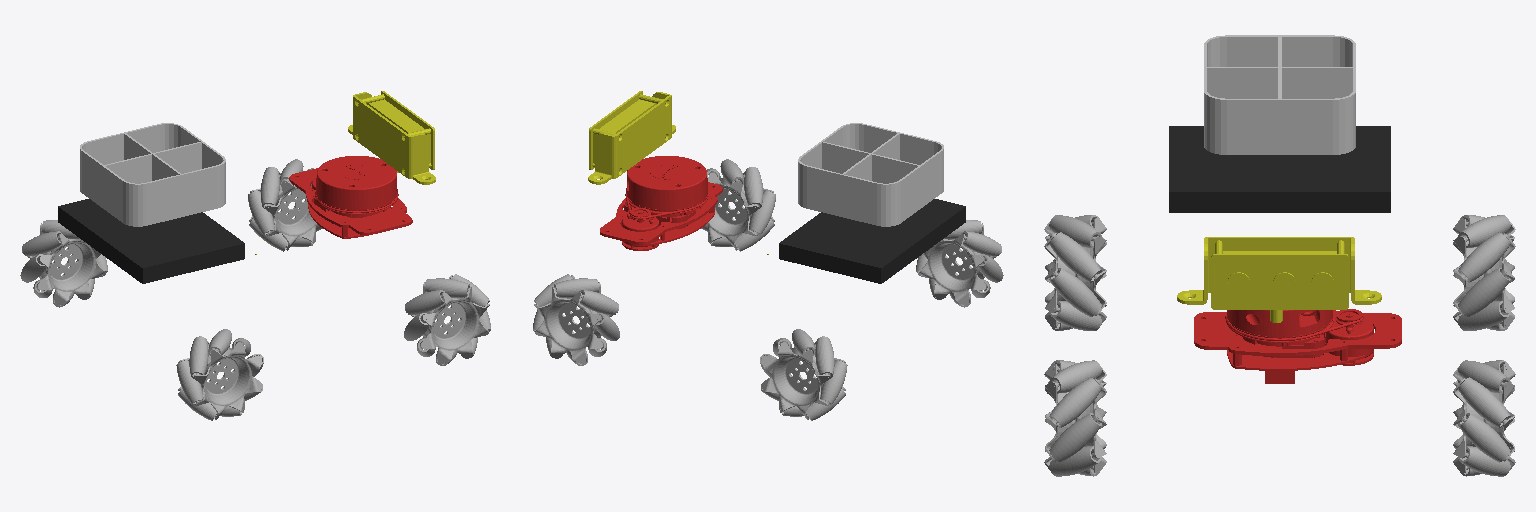
--- Facts derived from the render (not from the file) ---
The picture shows the robot from 3 angles, left to right: view 1: azimuth 30°, elevation 25°; view 2: azimuth 150°, elevation 25°; view 3: azimuth 270°, elevation 25°; orthographic projection.
Model oryxbot_base with 42 links and 41 joints (41 fixed), rooted at base_footprint, posed every joint at zero.
Visible links, largest first — view 1: save_box_Link, control_panel_Link, laser_radar_Link, depth_camera_Link, wheel_2_Link, wheel_3_Link, wheel_4_Link, wheel_1_Link, roller_2_3_Link, roller_4_3_Link, roller_1_4_Link, roller_3_4_Link (+3 smaller); view 2: save_box_Link, control_panel_Link, laser_radar_Link, depth_camera_Link, wheel_1_Link, wheel_4_Link, wheel_3_Link, wheel_2_Link, roller_1_3_Link, roller_3_3_Link, roller_2_4_Link, roller_4_4_Link (+3 smaller); view 3: save_box_Link, control_panel_Link, depth_camera_Link, laser_radar_Link, wheel_3_Link, wheel_4_Link, wheel_1_Link, wheel_2_Link, roller_4_1_Link, roller_3_1_Link, roller_1_1_Link, roller_2_1_Link (+12 smaller).
Link boxes in pixels (x1,y1,x2,y2): save_box_Link: [80, 123, 225, 226]; control_panel_Link: [58, 199, 244, 283]; laser_radar_Link: [289, 156, 412, 238]; depth_camera_Link: [348, 91, 435, 184]; wheel_2_Link: [405, 275, 489, 364]; wheel_3_Link: [178, 336, 262, 419]; wheel_4_Link: [22, 223, 105, 305]; wheel_1_Link: [249, 172, 316, 250]; roller_2_3_Link: [405, 290, 444, 314]; roller_4_3_Link: [22, 231, 60, 256]; roller_1_4_Link: [248, 191, 274, 235]; roller_3_4_Link: [176, 360, 203, 404]; save_box_Link: [798, 123, 943, 226]; control_panel_Link: [779, 199, 965, 283]; laser_radar_Link: [600, 156, 722, 250]; depth_camera_Link: [588, 91, 675, 184]; wheel_1_Link: [534, 275, 618, 364]; wheel_4_Link: [761, 336, 845, 419]; wheel_3_Link: [918, 223, 1001, 305]; wheel_2_Link: [707, 172, 774, 250]; roller_1_3_Link: [579, 290, 618, 314]; roller_3_3_Link: [963, 231, 1001, 256]; roller_2_4_Link: [749, 191, 775, 235]; roller_4_4_Link: [820, 360, 847, 404]; save_box_Link: [1204, 35, 1355, 154]; control_panel_Link: [1169, 126, 1390, 212]; depth_camera_Link: [1177, 237, 1381, 322]; laser_radar_Link: [1194, 309, 1401, 383]; wheel_3_Link: [1044, 218, 1106, 327]; wheel_4_Link: [1453, 218, 1515, 327]; wheel_1_Link: [1453, 363, 1515, 473]; wheel_2_Link: [1044, 363, 1106, 473]; roller_4_1_Link: [1458, 232, 1510, 282]; roller_3_1_Link: [1049, 232, 1101, 282]; roller_1_1_Link: [1458, 377, 1510, 427]; roller_2_1_Link: [1049, 377, 1101, 427].
Bounding box of the posed robot: 0.3075 × 0.3088 × 0.1916 m (x, y, z).
40 mesh visuals loaded from 41 distinct referenced files (40 binary STL); not drawn: 1 (reference not matched to a file when rendering).

The robot description file, URDF, robot "oryxbot_base":
<?xml version="1.0"?>
<robot xmlns:sensor="http://playerstage.sourceforge.net/gazebo/xmlschema/#sensor" xmlns:controller="http://playerstage.sourceforge.net/gazebo/xmlschema/#controller" xmlns:interface="http://playerstage.sourceforge.net/gazebo/xmlschema/#interface" xmlns:xacro="http://ros.org/wiki/xacro" name="oryxbot_base">
  <link name="base_footprint">
    <visual>
      <geometry>
        <box size="0.001 0.001 0.001"/>
      </geometry>
      <origin rpy="0 0 0" xyz="0 0 0.1"/>
    </visual>
    <inertial>
      <mass value="0.0001"/>
      <inertia ixx="1.0E-10" ixy="0.0" ixz="0.0" iyy="1.0E-10" iyz="0.0" izz="1.0E-10"/>
    </inertial>
  </link>
  <joint name="base_footprint_joint" type="fixed">
    <origin xyz="0 0 0.1"/>
    <parent link="base_footprint"/>
    <child link="base_link"/>
  </joint>
  <link name="base_link">
    <inertial>
      <origin xyz="-0.00764631169340118 -0.00117969395064395 -0.00183050219448137" rpy="0 0 0"/>
      <mass value="2.02553831087985"/>
      <inertia ixx="0.0136360660737575" ixy="-6.20950267617477E-05" ixz="0.000357631312376283" iyy="0.0207282662502369" iyz="0.000100277729999663" izz="0.0259054283159533"/>
    </inertial>
    <visual>
      <origin xyz="0 0 0" rpy="0 0 0"/>
      <geometry>
        <mesh filename="package://oryxbot_description/meshes/base/base_link.STL"/>
      </geometry>
      <material name="">
        <color rgba="0.2 0.2 0.2 1"/>
      </material>
    </visual>
    <collision>
      <origin xyz="0 0 0" rpy="0 0 0"/>
      <geometry>
        <mesh filename="package://oryxbot_description/meshes/base/base_link.STL"/>
      </geometry>
    </collision>
  </link>
  <link name="save_box_Link">
    <inertial>
      <origin xyz="-4.59354776438659E-15 9.15688820527724E-17 0.0147062883016232" rpy="0 0 0"/>
      <mass value="0.0971430373914802"/>
      <inertia ixx="0.000117289160482014" ixy="9.67216938625837E-20" ixz="-3.79126869778932E-18" iyy="0.000117289160482014" iyz="1.90433104035194E-20" izz="0.000201773217764548"/>
    </inertial>
    <visual>
      <origin xyz="0 0 0" rpy="0 0 0"/>
      <geometry>
        <mesh filename="package://oryxbot_description/meshes/base/save_box_Link.STL"/>
      </geometry>
      <material name="">
        <color rgba="0.8 0.8 0.8 1"/>
      </material>
    </visual>
    <collision>
      <origin xyz="0 0 0" rpy="0 0 0"/>
      <geometry>
        <mesh filename="package://oryxbot_description/meshes/base/save_box_Link.STL"/>
      </geometry>
    </collision>
  </link>
  <joint name="save_box_Joint" type="fixed">
    <origin xyz="-0.102321969925639 0 0.07925" rpy="-6.12303176911189E-17 0 0"/>
    <parent link="base_link"/>
    <child link="save_box_Link"/>
    <axis xyz="0 0 0"/>
  </joint>
  <link name="depth_camera_Link">
    <inertial>
      <origin xyz="-0.000338923518511336 0.00013633625480072 0.0130642403603556" rpy="0 0 0"/>
      <mass value="0.0429564094829856"/>
      <inertia ixx="4.42733827556727E-05" ixy="5.1756273672768E-08" ixz="-1.07581469445985E-07" iyy="9.87442464200886E-06" iyz="1.36662846267863E-09" izz="4.20179141036499E-05"/>
    </inertial>
    <visual>
      <origin xyz="0 0 0" rpy="0 0 0"/>
      <geometry>
        <mesh filename="package://oryxbot_description/meshes/base/depth_camera_Link.STL"/>
      </geometry>
      <material name="">
        <color rgba="0.8 0.8 0.2 1"/>
      </material>
    </visual>
    <collision>
      <origin xyz="0 0 0" rpy="0 0 0"/>
      <geometry>
        <mesh filename="package://oryxbot_description/meshes/base/depth_camera_Link.STL"/>
      </geometry>
    </collision>
  </link>
  <joint name="depth_camera_Joint" type="fixed">
    <origin xyz="0.137971242636892 0 0.0679000000000474" rpy="-6.12303176911189E-17 0 0"/>
    <parent link="base_link"/>
    <child link="depth_camera_Link"/>
    <axis xyz="0 0 0"/>
  </joint>
  <link name="laser_radar_Link">
    <inertial>
      <origin xyz="0.00129965485264849 0.0140721322674916 -0.00450819311932744" rpy="0 0 0"/>
      <mass value="0.0623789276094434"/>
      <inertia ixx="6.94639653669307E-05" ixy="8.6185609328867E-07" ixz="-1.9717605542125E-07" iyy="2.93424892981532E-05" iyz="6.39495406735705E-06" izz="7.78608897582073E-05"/>
    </inertial>
    <visual>
      <origin xyz="0 0 -0.02" rpy="0 0 0"/>
      <geometry>
        <mesh filename="package://oryxbot_description/meshes/base/laser_radar_Link.STL"/>
      </geometry>
      <material name="">
        <color rgba="0.8 0.2 0.2 1"/>
      </material>
    </visual>
    <collision>
      <origin xyz="0 0 0" rpy="0 0 0"/>
      <geometry>
        <mesh filename="package://oryxbot_description/meshes/base/laser_radar_Link.STL"/>
      </geometry>
    </collision>
  </link>
  <joint name="laser_radar_Joint" type="fixed">
    <origin xyz="0.10012092451104 0 0.05" rpy="-6.12303176911189E-17 0 0"/>
    <parent link="base_link"/>
    <child link="laser_radar_Link"/>
    <axis xyz="0 0 0"/>
  </joint>
  <link name="control_panel_Link">
    <inertial>
      <origin xyz="-1.38777878078145E-17 2.03505737914499E-17 0.0075" rpy="0 0 0"/>
      <mass value="0.22338"/>
      <inertia ixx="0.000400985715" ixy="-6.3306622132724E-20" ixz="-2.25875452601147E-21" iyy="0.000197858835" iyz="-8.99944309783044E-21" izz="0.0005904678"/>
    </inertial>
    <visual>
      <origin xyz="0 0 0" rpy="0 0 0"/>
      <geometry>
        <mesh filename="package://oryxbot_description/meshes/base/control_panel_Link.STL"/>
      </geometry>
      <material name="">
        <color rgba="0.2 0.2 0.2 1"/>
      </material>
    </visual>
    <collision>
      <origin xyz="0 0 0" rpy="0 0 0"/>
      <geometry>
        <mesh filename="package://oryxbot_description/meshes/base/control_panel_Link.STL"/>
      </geometry>
    </collision>
  </link>
  <joint name="control_panel_Joint" type="fixed">
    <origin xyz="-0.103733742636892 0 0.03725" rpy="-6.12303176911189E-17 0 0"/>
    <parent link="base_link"/>
    <child link="control_panel_Link"/>
    <axis xyz="0 0 0"/>
  </joint>
  <link name="wheel_1_Link">
    <inertial>
      <origin xyz="-3.49119389092545E-08 4.8702717014848E-07 -8.62702332904419E-08" rpy="0 0 0"/>
      <mass value="0.0115715789339179"/>
      <inertia ixx="4.48576917597745E-06" ixy="-1.24304480702996E-11" ixz="2.9583635995248E-11" iyy="6.65994842603994E-06" iyz="-5.89599770954395E-11" izz="4.48579119615739E-06"/>
    </inertial>
    <visual>
      <origin xyz="0 0 0" rpy="0 0 0"/>
      <geometry>
        <mesh filename="package://oryxbot_description/meshes/base/wheel_1_Link.STL"/>
      </geometry>
      <material name="">
        <color rgba="0.7 0.7 0.7 1"/>
      </material>
    </visual>
    <collision>
      <origin xyz="0 0 0" rpy="0 0 0"/>
      <geometry>
        <mesh filename="package://oryxbot_description/meshes/base/wheel_1_Link.STL"/>
      </geometry>
    </collision>
  </link>
  <joint name="wheel_1_Joint" type="fixed">
    <origin xyz="0.112733742636897 0.134000000000001 -0.0342499999999998" rpy="-6.12303176911189E-17 0 0"/>
    <parent link="base_link"/>
    <child link="wheel_1_Link"/>
    <axis xyz="0 0 0"/>
  </joint>
  <link name="roller_1_1_Link">
    <inertial>
      <origin xyz="-6.93889390390723E-17 0.000999807094442251 4.16333634234434E-17" rpy="0 0 0"/>
      <mass value="0.0041465555976513"/>
      <inertia ixx="4.31863836293642E-07" ixy="-2.50139417236036E-21" ixz="-4.80667813501109E-12" iyy="1.54352178276911E-07" iyz="2.47492439275866E-21" izz="4.31782290635005E-07"/>
    </inertial>
    <visual>
      <origin xyz="0 0 0" rpy="0 0 0"/>
      <geometry>
        <mesh filename="package://oryxbot_description/meshes/base/roller_1_1_Link.STL"/>
      </geometry>
      <material name="">
        <color rgba="0.7 0.7 0.7 1"/>
      </material>
    </visual>
  </link>
  <joint name="roller_1_1_Joint" type="fixed">
    <origin xyz="0.0207132034355986 -0.000707106781189015 0.0217132034356015" rpy="-0.529902789748729 -0.146975190663391 -0.529902789748729"/>
    <parent link="wheel_1_Link"/>
    <child link="roller_1_1_Link"/>
    <axis xyz="0 0 0"/>
  </joint>
  <link name="roller_1_2_Link">
    <inertial>
      <origin xyz="-1.38777878078145E-17 0.000999807094442251 -6.93889390390723E-18" rpy="0 0 0"/>
      <mass value="0.00414655559765128"/>
      <inertia ixx="4.31863836293638E-07" ixy="-1.2573145310806E-22" ixz="-4.80667813518606E-12" iyy="1.54352178276911E-07" iyz="3.46090947854882E-22" izz="4.31782290635005E-07"/>
    </inertial>
    <visual>
      <origin xyz="0 0 0" rpy="0 0 0"/>
      <geometry>
        <mesh filename="package://oryxbot_description/meshes/base/roller_1_2_Link.STL"/>
      </geometry>
      <material name="">
        <color rgba="0.7 0.7 0.7 1"/>
      </material>
    </visual>
  </link>
  <joint name="roller_1_2_Joint" type="fixed">
    <origin xyz="-0.000707106781188779 -0.000707106781188793 0.03" rpy="2.60208521396521E-16 0 -0.785398163397448"/>
    <parent link="wheel_1_Link"/>
    <child link="roller_1_2_Link"/>
    <axis xyz="0 0 0"/>
  </joint>
  <link name="roller_1_3_Link">
    <inertial>
      <origin xyz="-1.38777878078145E-17 0.000999807094442279 1.38777878078145E-17" rpy="0 0 0"/>
      <mass value="0.00414655559765127"/>
      <inertia ixx="4.31863836293635E-07" ixy="2.87858853168454E-22" ixz="-4.80667813510373E-12" iyy="1.54352178276911E-07" iyz="3.20946077670575E-22" izz="4.31782290635002E-07"/>
    </inertial>
    <visual>
      <origin xyz="0 0 0" rpy="0 0 0"/>
      <geometry>
        <mesh filename="package://oryxbot_description/meshes/base/roller_1_3_Link.STL"/>
      </geometry>
      <material name="">
        <color rgba="0.7 0.7 0.7 1"/>
      </material>
    </visual>
  </link>
  <joint name="roller_1_3_Joint" type="fixed">
    <origin xyz="-0.0217132034356014 -0.000707106781189043 0.0207132034355986" rpy="0.52990278974873 0.146975190663391 -0.529902789748729"/>
    <parent link="wheel_1_Link"/>
    <child link="roller_1_3_Link"/>
    <axis xyz="0 0 0"/>
  </joint>
  <link name="roller_1_4_Link">
    <inertial>
      <origin xyz="1.38777878078145E-17 0.000999807094442279 0" rpy="0 0 0"/>
      <mass value="0.00414655559765129"/>
      <inertia ixx="4.31863836293638E-07" ixy="1.11217018297169E-22" ixz="-4.80667813522289E-12" iyy="1.54352178276911E-07" iyz="3.30872245021211E-22" izz="4.31782290635005E-07"/>
    </inertial>
    <visual>
      <origin xyz="0 0 0" rpy="0 0 0"/>
      <geometry>
        <mesh filename="package://oryxbot_description/meshes/base/roller_1_4_Link.STL"/>
      </geometry>
      <material name=""><color rgba="0.7 0.7 0.7 1"/>&gt;
      </material>
    </visual>
  </link>
  <joint name="roller_1_4_Joint" type="fixed">
    <origin xyz="-0.03 -0.000707106781188765 -0.000707106781188793" rpy="0.785398163397448 0 0"/>
    <parent link="wheel_1_Link"/>
    <child link="roller_1_4_Link"/>
    <axis xyz="0 0 0"/>
  </joint>
  <link name="roller_1_5_Link">
    <inertial>
      <origin xyz="0 0.000999807094442251 -2.77555756156289E-17" rpy="0 0 0"/>
      <mass value="0.0041465555976513"/>
      <inertia ixx="4.3186383629364E-07" ixy="-2.9778502051909E-23" ixz="-4.80667813530226E-12" iyy="1.54352178276911E-07" iyz="7.51079996198149E-22" izz="4.31782290635006E-07"/>
    </inertial>
    <visual>
      <origin xyz="0 0 0" rpy="0 0 0"/>
      <geometry>
        <mesh filename="package://oryxbot_description/meshes/base/roller_1_5_Link.STL"/>
      </geometry>
      <material name="">
        <color rgba="0.7 0.7 0.7 1"/>
      </material>
    </visual>
  </link>
  <joint name="roller_1_5_Joint" type="fixed">
    <origin xyz="-0.0207132034355986 -0.000707106781189043 -0.0217132034356015" rpy="0.52990278974873 -0.146975190663391 0.529902789748729"/>
    <parent link="wheel_1_Link"/>
    <child link="roller_1_5_Link"/>
    <axis xyz="0 0 0"/>
  </joint>
  <link name="roller_1_6_Link">
    <inertial>
      <origin xyz="0 0.000999807094442196 1.38777878078145E-17" rpy="0 0 0"/>
      <mass value="0.00414655559765129"/>
      <inertia ixx="4.3186383629364E-07" ixy="-5.4924792673521E-22" ixz="-4.80667813516948E-12" iyy="1.54352178276911E-07" iyz="1.05435639738534E-22" izz="4.31782290635007E-07"/>
    </inertial>
    <visual>
      <origin xyz="0 0 0" rpy="0 0 0"/>
      <geometry>
        <mesh filename="package://oryxbot_description/meshes/base/roller_1_6_Link.STL"/>
      </geometry>
      <material name="">
        <color rgba="0.7 0.7 0.7 1"/>
      </material>
    </visual>
  </link>
  <joint name="roller_1_6_Joint" type="fixed">
    <origin xyz="0.000707106781188793 -0.000707106781188793 -0.03" rpy="0 0 0.785398163397448"/>
    <parent link="wheel_1_Link"/>
    <child link="roller_1_6_Link"/>
    <axis xyz="0 0 0"/>
  </joint>
  <link name="roller_1_7_Link">
    <inertial>
      <origin xyz="0 0.000999807094442209 -1.38777878078145E-17" rpy="0 0 0"/>
      <mass value="0.00414655559765128"/>
      <inertia ixx="4.31863836293635E-07" ixy="3.4410713482206E-22" ixz="-4.80667813504418E-12" iyy="1.54352178276911E-07" iyz="1.19114008207636E-22" izz="4.31782290635002E-07"/>
    </inertial>
    <visual>
      <origin xyz="0 0 0" rpy="0 0 0"/>
      <geometry>
        <mesh filename="package://oryxbot_description/meshes/base/roller_1_7_Link.STL"/>
      </geometry>
      <material name="">
        <color rgba="0.7 0.7 0.7 1"/>
      </material>
    </visual>
  </link>
  <joint name="roller_1_7_Joint" type="fixed">
    <origin xyz="0.0217132034356015 -0.000707106781189043 -0.0207132034355986" rpy="-0.529902789748728 0.14697519066339 0.529902789748728"/>
    <parent link="wheel_1_Link"/>
    <child link="roller_1_7_Link"/>
    <axis xyz="0 0 0"/>
  </joint>
  <link name="roller_1_8_Link">
    <inertial>
      <origin xyz="2.77555756156289E-17 0.000999807094442348 1.38777878078145E-17" rpy="0 0 0"/>
      <mass value="0.00414655559765128"/>
      <inertia ixx="4.31863836293639E-07" ixy="-8.22511969632861E-22" ixz="-4.8066781351909E-12" iyy="1.54352178276911E-07" iyz="-3.04402465419514E-22" izz="4.31782290635006E-07"/>
    </inertial>
    <visual>
      <origin xyz="0 0 0" rpy="0 0 0"/>
      <geometry>
        <mesh filename="package://oryxbot_description/meshes/base/roller_1_8_Link.STL"/>
      </geometry>
      <material name="">
        <color rgba="0.7 0.7 0.7 1"/>
      </material>
    </visual>
  </link>
  <joint name="roller_1_8_Joint" type="fixed">
    <origin xyz="0.03 -0.000707106781188821 0.000707106781188793" rpy="-0.785398163397448 0 0"/>
    <parent link="wheel_1_Link"/>
    <child link="roller_1_8_Link"/>
    <axis xyz="0 0 0"/>
  </joint>
  <link name="wheel_2_Link">
    <inertial>
      <origin xyz="9.94518354099916E-07 -3.47615774470844E-07 4.35441263609004E-07" rpy="0 0 0"/>
      <mass value="0.0115720932718038"/>
      <inertia ixx="4.48594023888562E-06" ixy="-1.27462413936796E-11" ixz="5.95427391893261E-11" iyy="6.66008980600592E-06" iyz="-5.04101581512295E-11" izz="4.48582634155502E-06"/>
    </inertial>
    <visual>
      <origin xyz="0 0 0" rpy="0 0 0"/>
      <geometry>
        <mesh filename="package://oryxbot_description/meshes/base/wheel_2_Link.STL"/>
      </geometry>
      <material name="">
        <color rgba="0.7 0.7 0.7 1"/>
      </material>
    </visual>
    <collision>
      <origin xyz="0 0 0" rpy="0 0 0"/>
      <geometry>
        <mesh filename="package://oryxbot_description/meshes/base/wheel_2_Link.STL"/>
      </geometry>
    </collision>
  </link>
  <joint name="wheel_2_Joint" type="fixed">
    <origin xyz="0.112733742636895 -0.133999999999999 -0.0342499999999961" rpy="-6.12303176911189E-17 0 0"/>
    <parent link="base_link"/>
    <child link="wheel_2_Link"/>
    <axis xyz="0 0 0"/>
  </joint>
  <link name="roller_2_1_Link">
    <inertial>
      <origin xyz="-1.38777878078145E-17 0.000999807094442307 0" rpy="0 0 0"/>
      <mass value="0.00414655559765128"/>
      <inertia ixx="4.31863836293637E-07" ixy="-4.46677530778635E-22" ixz="-4.80667813523608E-12" iyy="1.54352178276911E-07" iyz="-2.9778502051909E-23" izz="4.31782290635004E-07"/>
    </inertial>
    <visual>
      <origin xyz="0 0 0" rpy="0 0 0"/>
      <geometry>
        <mesh filename="package://oryxbot_description/meshes/base/roller_2_1_Link.STL"/>
      </geometry>
      <material name="">
        <color rgba="0.7 0.7 0.7 1"/>
      </material>
    </visual>
  </link>
  <joint name="roller_2_1_Joint" type="fixed">
    <origin xyz="0.0217132034356014 -0.000707106781189015 0.0207132034355986" rpy="0.52990278974873 -0.146975190663391 0.529902789748729"/>
    <parent link="wheel_2_Link"/>
    <child link="roller_2_1_Link"/>
    <axis xyz="0 0 0"/>
  </joint>
  <link name="roller_2_2_Link">
    <inertial>
      <origin xyz="1.38777878078145E-17 0.000999807094442251 -3.03576608295941E-17" rpy="0 0 0"/>
      <mass value="0.00414655559765128"/>
      <inertia ixx="4.31863836293636E-07" ixy="-4.56603698129271E-22" ixz="-4.80667813508966E-12" iyy="1.54352178276911E-07" iyz="-2.56064630237828E-22" izz="4.31782290635003E-07"/>
    </inertial>
    <visual>
      <origin xyz="0 0 0" rpy="0 0 0"/>
      <geometry>
        <mesh filename="package://oryxbot_description/meshes/base/roller_2_2_Link.STL"/>
      </geometry>
      <material name="">
        <color rgba="0.7 0.7 0.7 1"/>
      </material>
    </visual>
  </link>
  <joint name="roller_2_2_Joint" type="fixed">
    <origin xyz="0.000707106781188779 -0.000707106781188738 0.03" rpy="2.60208521396521E-16 0 0.785398163397448"/>
    <parent link="wheel_2_Link"/>
    <child link="roller_2_2_Link"/>
    <axis xyz="0 0 0"/>
  </joint>
  <link name="roller_2_3_Link">
    <inertial>
      <origin xyz="-1.38777878078145E-17 0.000999807094442251 0" rpy="0 0 0"/>
      <mass value="0.00414655559765129"/>
      <inertia ixx="4.31863836293639E-07" ixy="3.30872245021211E-22" ixz="-4.80667813500447E-12" iyy="1.54352178276911E-07" iyz="3.37489689921635E-22" izz="4.31782290635005E-07"/>
    </inertial>
    <visual>
      <origin xyz="0 0 0" rpy="0 0 0"/>
      <geometry>
        <mesh filename="package://oryxbot_description/meshes/base/roller_2_3_Link.STL"/>
      </geometry>
      <material name="">
        <color rgba="0.7 0.7 0.7 1"/>
      </material>
    </visual>
  </link>
  <joint name="roller_2_3_Joint" type="fixed">
    <origin xyz="-0.0207132034355986 -0.00070710678118896 0.0217132034356015" rpy="-0.529902789748729 0.14697519066339 0.529902789748728"/>
    <parent link="wheel_2_Link"/>
    <child link="roller_2_3_Link"/>
    <axis xyz="0 0 0"/>
  </joint>
  <link name="roller_2_4_Link">
    <inertial>
      <origin xyz="0 0.000999807094442223 -1.38777878078145E-17" rpy="0 0 0"/>
      <mass value="0.0041465555976513"/>
      <inertia ixx="4.31863836293639E-07" ixy="-2.11380593321028E-22" ixz="-4.80667813513264E-12" iyy="1.54352178276911E-07" iyz="2.77932685817817E-22" izz="4.31782290635005E-07"/>
    </inertial>
    <visual>
      <origin xyz="0 0 0" rpy="0 0 0"/>
      <geometry>
        <mesh filename="package://oryxbot_description/meshes/base/roller_2_4_Link.STL"/>
      </geometry>
      <material name="">
        <color rgba="0.7 0.7 0.7 1"/>
      </material>
    </visual>
  </link>
  <joint name="roller_2_4_Joint" type="fixed">
    <origin xyz="-0.03 -0.000707106781188821 0.000707106781188793" rpy="-0.785398163397448 0 0"/>
    <parent link="wheel_2_Link"/>
    <child link="roller_2_4_Link"/>
    <axis xyz="0 0 0"/>
  </joint>
  <link name="roller_2_5_Link">
    <inertial>
      <origin xyz="-5.55111512312578E-17 0.000999807094442334 1.38777878078145E-17" rpy="0 0 0"/>
      <mass value="0.00414655559765128"/>
      <inertia ixx="4.31863836293638E-07" ixy="-9.92616735063633E-24" ixz="-4.80667813514344E-12" iyy="1.54352178276911E-07" iyz="9.03281228907906E-22" izz="4.31782290635004E-07"/>
    </inertial>
    <visual>
      <origin xyz="0 0 0" rpy="0 0 0"/>
      <geometry>
        <mesh filename="package://oryxbot_description/meshes/base/roller_2_5_Link.STL"/>
      </geometry>
      <material name="">
        <color rgba="0.7 0.7 0.7 1"/>
      </material>
    </visual>
  </link>
  <joint name="rolle_2r_5_Joint" type="fixed">
    <origin xyz="-0.0217132034356014 -0.000707106781188988 -0.0207132034355986" rpy="-0.52990278974873 -0.146975190663391 -0.529902789748729"/>
    <parent link="wheel_2_Link"/>
    <child link="roller_2_5_Link"/>
    <axis xyz="0 0 0"/>
  </joint>
  <link name="roller_2_6_Link">
    <inertial>
      <origin xyz="2.77555756156289E-17 0.000999807094442348 -1.38777878078145E-17" rpy="0 0 0"/>
      <mass value="0.00414655559765126"/>
      <inertia ixx="4.31863836293635E-07" ixy="4.36751363427999E-22" ixz="-4.80667813509319E-12" iyy="1.5435217827691E-07" iyz="2.36116847928058E-22" izz="4.31782290635003E-07"/>
    </inertial>
    <visual>
      <origin xyz="0 0 0" rpy="0 0 0"/>
      <geometry>
        <mesh filename="package://oryxbot_description/meshes/base/roller_2_6_Link.STL"/>
      </geometry>
      <material name="">
        <color rgba="0.7 0.7 0.7 1"/>
      </material>
    </visual>
  </link>
  <joint name="roller_2_6_Joint" type="fixed">
    <origin xyz="-0.000707106781188765 -0.000707106781188738 -0.03" rpy="0 0 -0.785398163397448"/>
    <parent link="wheel_2_Link"/>
    <child link="roller_2_6_Link"/>
    <axis xyz="0 0 0"/>
  </joint>
  <link name="roller_2_7_Link">
    <inertial>
      <origin xyz="-2.77555756156289E-17 0.000999807094442307 -2.77555756156289E-17" rpy="0 0 0"/>
      <mass value="0.00414655559765127"/>
      <inertia ixx="4.31863836293635E-07" ixy="-3.01093742969302E-22" ixz="-4.80667813497139E-12" iyy="1.54352178276911E-07" iyz="-4.30133918527574E-22" izz="4.31782290635001E-07"/>
    </inertial>
    <visual>
      <origin xyz="0 0 0" rpy="0 0 0"/>
      <geometry>
        <mesh filename="package://oryxbot_description/meshes/base/roller_2_7_Link.STL"/>
      </geometry>
      <material name="">
        <color rgba="0.7 0.7 0.7 1"/>
      </material>
    </visual>
  </link>
  <joint name="roller_2_7_Joint" type="fixed">
    <origin xyz="0.0207132034355986 -0.000707106781189015 -0.0217132034356015" rpy="0.52990278974873 0.146975190663391 -0.529902789748729"/>
    <parent link="wheel_2_Link"/>
    <child link="roller_2_7_Link"/>
    <axis xyz="0 0 0"/>
  </joint>
  <link name="roller_2_8_Link">
    <inertial>
      <origin xyz="2.77555756156289E-17 0.000999807094442279 -2.77555756156289E-17" rpy="0 0 0"/>
      <mass value="0.00414655559765126"/>
      <inertia ixx="4.31863836293635E-07" ixy="5.53160878773498E-23" ixz="-4.80667813492758E-12" iyy="1.5435217827691E-07" iyz="-5.9557004103818E-22" izz="4.31782290635001E-07"/>
    </inertial>
    <visual>
      <origin xyz="0 0 0" rpy="0 0 0"/>
      <geometry>
        <mesh filename="package://oryxbot_description/meshes/base/roller_2_8_Link.STL"/>
      </geometry>
      <material name="">
        <color rgba="0.7 0.7 0.7 1"/>
      </material>
    </visual>
  </link>
  <joint name="roller_2_8_Joint" type="fixed">
    <origin xyz="0.03 -0.000707106781188765 -0.000707106781188793" rpy="0.785398163397448 0 0"/>
    <parent link="wheel_2_Link"/>
    <child link="roller_2_8_Link"/>
    <axis xyz="0 0 0"/>
  </joint>
  <link name="wheel_3_Link">
    <inertial>
      <origin xyz="-3.50725403996943E-08 4.87027175366528E-07 -8.61096328685917E-08" rpy="0 0 0"/>
      <mass value="0.0115715788043825"/>
      <inertia ixx="4.48576910692246E-06" ixy="-1.24408844764669E-11" ixz="2.95581559339796E-11" iyy="6.65994836338677E-06" iyz="-5.89704116223101E-11" izz="4.48579112710188E-06"/>
    </inertial>
    <visual>
      <origin xyz="0 0 0" rpy="0 0 0"/>
      <geometry>
        <mesh filename="package://oryxbot_description/meshes/base/wheel_3_Link.STL"/>
      </geometry>
      <material name="">
        <color rgba="0.7 0.7 0.7 1"/>
      </material>
    </visual>
    <collision>
      <origin xyz="0 0 0" rpy="0 0 0"/>
      <geometry>
        <mesh filename="package://oryxbot_description/meshes/base/wheel_3_Link.STL"/>
      </geometry>
    </collision>
  </link>
  <joint name="wheel_3_joint" type="fixed">
    <origin xyz="-0.112733742636892 -0.134 -0.0342499999999999" rpy="-6.12303176911189E-17 0 0"/>
    <parent link="base_link"/>
    <child link="wheel_3_Link"/>
    <axis xyz="0 0 0"/>
  </joint>
  <link name="roller_3_1_Link">
    <inertial>
      <origin xyz="-5.55111512312578E-17 0.000999807094442307 5.55111512312578E-17" rpy="0 0 0"/>
      <mass value="0.00414655559765128"/>
      <inertia ixx="4.31863836293639E-07" ixy="-1.43267682094184E-21" ixz="-4.80667813487874E-12" iyy="1.54352178276911E-07" iyz="2.22346148654254E-21" izz="4.31782290635002E-07"/>
    </inertial>
    <visual>
      <origin xyz="0 0 0" rpy="0 0 0"/>
      <geometry>
        <mesh filename="package://oryxbot_description/meshes/base/roller_3_1_Link.STL"/>
      </geometry>
      <material name="">
        <color rgba="0.7 0.7 0.7 1"/>
      </material>
    </visual>
  </link>
  <joint name="roller_3_1_Joint" type="fixed">
    <origin xyz="0.0207132034355986 -0.000707106781189043 0.0217132034356015" rpy="-0.529902789748729 -0.146975190663392 -0.52990278974873"/>
    <parent link="wheel_3_Link"/>
    <child link="roller_3_1_Link"/>
    <axis xyz="0 0 0"/>
  </joint>
  <link name="roller_3_2_Link">
    <inertial>
      <origin xyz="0 0.000999807094442307 1.04083408558608E-17" rpy="0 0 0"/>
      <mass value="0.00414655559765128"/>
      <inertia ixx="4.31863836293635E-07" ixy="3.97046694025453E-23" ixz="-4.80667813502386E-12" iyy="1.54352178276911E-07" iyz="7.50061846387807E-22" izz="4.31782290635002E-07"/>
    </inertial>
    <visual>
      <origin xyz="0 0 0" rpy="0 0 0"/>
      <geometry>
        <mesh filename="package://oryxbot_description/meshes/base/roller_3_2_Link.STL"/>
      </geometry>
      <material name="">
        <color rgba="0.7 0.7 0.7 1"/>
      </material>
    </visual>
  </link>
  <joint name="roller_3_2_Joint" type="fixed">
    <origin xyz="-0.000707106781188752 -0.000707106781188793 0.03" rpy="2.60208521396521E-16 0 -0.785398163397448"/>
    <parent link="wheel_3_Link"/>
    <child link="roller_3_2_Link"/>
    <axis xyz="0 0 0"/>
  </joint>
  <link name="roller_3_3_Link">
    <inertial>
      <origin xyz="-1.38777878078145E-17 0.000999807094442307 2.77555756156289E-17" rpy="0 0 0"/>
      <mass value="0.00414655559765129"/>
      <inertia ixx="4.31863836293638E-07" ixy="-1.15805285757424E-22" ixz="-4.80667813526917E-12" iyy="1.54352178276911E-07" iyz="3.01093742969302E-22" izz="4.31782290635004E-07"/>
    </inertial>
    <visual>
      <origin xyz="0 0 0" rpy="0 0 0"/>
      <geometry>
        <mesh filename="package://oryxbot_description/meshes/base/roller_3_3_Link.STL"/>
      </geometry>
      <material name="">
        <color rgba="0.7 0.7 0.7 1"/>
      </material>
    </visual>
  </link>
  <joint name="roller_3_3_Joint" type="fixed">
    <origin xyz="-0.0217132034356014 -0.000707106781189015 0.0207132034355986" rpy="0.52990278974873 0.146975190663391 -0.529902789748729"/>
    <parent link="wheel_3_Link"/>
    <child link="roller_3_3_Link"/>
    <axis xyz="0 0 0"/>
  </joint>
  <link name="roller_3_4_Link">
    <inertial>
      <origin xyz="-5.55111512312578E-17 0.000999807094442307 -1.38777878078145E-17" rpy="0 0 0"/>
      <mass value="0.00414655559765126"/>
      <inertia ixx="4.31863836293633E-07" ixy="-9.24894957481905E-22" ixz="-4.8066781350104E-12" iyy="1.5435217827691E-07" iyz="-5.29395592033938E-23" izz="4.31782290635001E-07"/>
    </inertial>
    <visual>
      <origin xyz="0 0 0" rpy="0 0 0"/>
      <geometry>
        <mesh filename="package://oryxbot_description/meshes/base/roller_3_4_Link.STL"/>
      </geometry>
      <material name="">
        <color rgba="0.7 0.7 0.7 1"/>
      </material>
    </visual>
  </link>
  <joint name="roller_3_4_Joint" type="fixed">
    <origin xyz="-0.03 -0.000707106781188765 -0.000707106781188786" rpy="0.785398163397448 0 0"/>
    <parent link="wheel_3_Link"/>
    <child link="roller_3_4_Link"/>
    <axis xyz="0 0 0"/>
  </joint>
  <link name="roller_3_5_Link">
    <inertial>
      <origin xyz="0 0.000999807094442307 -1.38777878078145E-17" rpy="0 0 0"/>
      <mass value="0.00414655559765126"/>
      <inertia ixx="4.31863836293633E-07" ixy="0" ixz="-4.8066781350905E-12" iyy="1.5435217827691E-07" iyz="-4.66529865479908E-22" izz="4.31782290635E-07"/>
    </inertial>
    <visual>
      <origin xyz="0 0 0" rpy="0 0 0"/>
      <geometry>
        <mesh filename="package://oryxbot_description/meshes/base/roller_3_5_Link.STL"/>
      </geometry>
      <material name="">
        <color rgba="0.7 0.7 0.7 1"/>
      </material>
    </visual>
  </link>
  <joint name="roller_3_5_Joint" type="fixed">
    <origin xyz="-0.0207132034355986 -0.000707106781189071 -0.0217132034356015" rpy="0.52990278974873 -0.146975190663391 0.529902789748729"/>
    <parent link="wheel_3_Link"/>
    <child link="roller_3_5_Link"/>
    <axis xyz="0 0 0"/>
  </joint>
  <link name="roller_3_6_Link">
    <inertial>
      <origin xyz="0 0.000999807094442251 -1.38777878078145E-17" rpy="0 0 0"/>
      <mass value="0.00414655559765125"/>
      <inertia ixx="4.31863836293632E-07" ixy="9.26442286059391E-23" ixz="-4.80667813529233E-12" iyy="1.5435217827691E-07" iyz="4.40853339160952E-24" izz="4.31782290634999E-07"/>
    </inertial>
    <visual>
      <origin xyz="0 0 0" rpy="0 0 0"/>
      <geometry>
        <mesh filename="package://oryxbot_description/meshes/base/roller_3_6_Link.STL"/>
      </geometry>
      <material name="">
        <color rgba="0.7 0.7 0.7 1"/>
      </material>
    </visual>
  </link>
  <joint name="roller_3_6_Joint" type="fixed">
    <origin xyz="0.000707106781188779 -0.000707106781188821 -0.03" rpy="0 0 0.785398163397448"/>
    <parent link="wheel_3_Link"/>
    <child link="roller_3_6_Link"/>
    <axis xyz="0 0 0"/>
  </joint>
  <link name="roller_3_7_Link">
    <inertial>
      <origin xyz="0 0.000999807094442293 -2.77555756156289E-17" rpy="0 0 0"/>
      <mass value="0.00414655559765126"/>
      <inertia ixx="4.31863836293633E-07" ixy="-1.32348898008484E-23" ixz="-4.80667813530226E-12" iyy="1.54352178276911E-07" iyz="-9.92616735063633E-24" izz="4.31782290635E-07"/>
    </inertial>
    <visual>
      <origin xyz="0 0 0" rpy="0 0 0"/>
      <geometry>
        <mesh filename="package://oryxbot_description/meshes/base/roller_3_7_Link.STL"/>
      </geometry>
      <material name="">
        <color rgba="0.7 0.7 0.7 1"/>
      </material>
    </visual>
  </link>
  <joint name="roller_3_7_Joint" type="fixed">
    <origin xyz="0.0217132034356014 -0.000707106781189099 -0.0207132034355986" rpy="-0.529902789748729 0.146975190663391 0.529902789748729"/>
    <parent link="wheel_3_Link"/>
    <child link="roller_3_7_Link"/>
    <axis xyz="0 0 0"/>
  </joint>
  <link name="roller_3_8_Link">
    <inertial>
      <origin xyz="0 0.000999807094442293 -2.77555756156289E-17" rpy="0 0 0"/>
      <mass value="0.00414655559765128"/>
      <inertia ixx="4.31863836293638E-07" ixy="-2.15950685426026E-22" ixz="-4.80667813528115E-12" iyy="1.54352178276911E-07" iyz="-4.63221143029696E-23" izz="4.31782290635004E-07"/>
    </inertial>
    <visual>
      <origin xyz="0 0 0" rpy="0 0 0"/>
      <geometry>
        <mesh filename="package://oryxbot_description/meshes/base/roller_3_8_Link.STL"/>
      </geometry>
      <material name="">
        <color rgba="0.7 0.7 0.7 1"/>
      </material>
    </visual>
  </link>
  <joint name="roller_3_8_Joint" type="fixed">
    <origin xyz="0.03 -0.000707106781188849 0.0007071067811888" rpy="-0.785398163397448 0 0"/>
    <parent link="wheel_3_Link"/>
    <child link="roller_3_8_Link"/>
    <axis xyz="0 0 0"/>
  </joint>
  <link name="wheel_4_Link">
    <inertial>
      <origin xyz="9.94520553007638E-07 -3.47612766071759E-07 4.3543573170074E-07" rpy="0 0 0"/>
      <mass value="0.0115720932681644"/>
      <inertia ixx="4.48594023806637E-06" ixy="-1.27450695041583E-11" ixz="5.95422171159268E-11" iyy="6.66008980442039E-06" iyz="-5.04102490053183E-11" izz="4.4858263393441E-06"/>
    </inertial>
    <visual>
      <origin xyz="0 0 0" rpy="0 0 0"/>
      <geometry>
        <mesh filename="package://oryxbot_description/meshes/base/wheel_4_Link.STL"/>
      </geometry>
      <material name="">
        <color rgba="0.7 0.7 0.7 1"/>
      </material>
    </visual>
    <collision>
      <origin xyz="0 0 0" rpy="0 0 0"/>
      <geometry>
        <mesh filename="package://oryxbot_description/meshes/base/wheel_4_Link.STL"/>
      </geometry>
    </collision>
  </link>
  <joint name="wheel_4_Joint" type="fixed">
    <origin xyz="-0.112733742636892 0.134 -0.03425" rpy="-6.12303176911189E-17 0 0"/>
    <parent link="base_link"/>
    <child link="wheel_4_Link"/>
    <axis xyz="0 0 0"/>
  </joint>
  <link name="roller_4_1_Link">
    <inertial>
      <origin xyz="0 0.000999807094442251 -1.38777878078145E-17" rpy="0 0 0"/>
      <mass value="0.00414655559765127"/>
      <inertia ixx="4.31863836293637E-07" ixy="0" ixz="-4.80667813523608E-12" iyy="1.5435217827691E-07" iyz="9.26442286059391E-23" izz="4.31782290635003E-07"/>
    </inertial>
    <visual>
      <origin xyz="0 0 0" rpy="0 0 0"/>
      <geometry>
        <mesh filename="package://oryxbot_description/meshes/base/roller_4_1_Link.STL"/>
      </geometry>
      <material name="">
        <color rgba="0.7 0.7 0.7 1"/>
      </material>
    </visual>
  </link>
  <joint name="roller_4_1_Joint" type="fixed">
    <origin xyz="0.0217132034356014 -0.000707106781189015 0.0207132034355986" rpy="0.52990278974873 -0.146975190663391 0.529902789748729"/>
    <parent link="wheel_4_Link"/>
    <child link="roller_4_1_Link"/>
    <axis xyz="0 0 0"/>
  </joint>
  <link name="roller_4_2_Link">
    <inertial>
      <origin xyz="1.38777878078145E-17 0.000999807094442307 -4.33680868994202E-18" rpy="0 0 0"/>
      <mass value="0.00414655559765127"/>
      <inertia ixx="4.31863836293636E-07" ixy="-7.27918939046664E-23" ixz="-4.80667813522998E-12" iyy="1.5435217827691E-07" iyz="3.46758589237963E-22" izz="4.31782290635003E-07"/>
    </inertial>
    <visual>
      <origin xyz="0 0 0" rpy="0 0 0"/>
      <geometry>
        <mesh filename="package://oryxbot_description/meshes/base/roller_4_2_Link.STL"/>
      </geometry>
      <material name="">
        <color rgba="0.7 0.7 0.7 1"/>
      </material>
    </visual>
  </link>
  <joint name="roller_4_2_Joint" type="fixed">
    <origin xyz="0.000707106781188779 -0.000707106781188765 0.03" rpy="2.60208521396521E-16 0 0.785398163397448"/>
    <parent link="wheel_4_Link"/>
    <child link="roller_4_2_Link"/>
    <axis xyz="0 0 0"/>
  </joint>
  <link name="roller_4_3_Link">
    <inertial>
      <origin xyz="2.08166817117217E-16 0.00099980709444264 -1.66533453693773E-16" rpy="0 0 0"/>
      <mass value="0.0041465555976511"/>
      <inertia ixx="4.31863836293611E-07" ixy="8.31481951738303E-21" ixz="-4.80667813757866E-12" iyy="1.54352178276906E-07" iyz="-6.11782781044219E-21" izz="4.31782290634976E-07"/>
    </inertial>
    <visual>
      <origin xyz="0 0 0" rpy="0 0 0"/>
      <geometry>
        <mesh filename="package://oryxbot_description/meshes/base/roller_4_3_Link.STL"/>
      </geometry>
      <material name="">
        <color rgba="0.7 0.7 0.7 1"/>
      </material>
    </visual>
  </link>
  <joint name="roller_4_3_Joint" type="fixed">
    <origin xyz="-0.0207132034355986 -0.00070710678118896 0.0217132034356014" rpy="-0.529902789748729 0.14697519066339 0.529902789748728"/>
    <parent link="wheel_4_Link"/>
    <child link="roller_4_3_Link"/>
    <axis xyz="0 0 0"/>
  </joint>
  <link name="roller_4_4_Link">
    <inertial>
      <origin xyz="0 0.00099980709444232 0" rpy="0 0 0"/>
      <mass value="0.00414655559765128"/>
      <inertia ixx="4.31863836293637E-07" ixy="4.95383443897663E-23" ixz="-4.80667813508523E-12" iyy="1.54352178276911E-07" iyz="8.60267837055149E-22" izz="4.31782290635004E-07"/>
    </inertial>
    <visual>
      <origin xyz="0 0 0" rpy="0 0 0"/>
      <geometry>
        <mesh filename="package://oryxbot_description/meshes/base/roller_4_4_Link.STL"/>
      </geometry>
      <material name="">
        <color rgba="0.7 0.7 0.7 1"/>
      </material>
    </visual>
  </link>
  <joint name="roller_4_4_Joint" type="fixed">
    <origin xyz="-0.03 -0.000707106781188765 0.000707106781188793" rpy="-0.785398163397448 0 0"/>
    <parent link="wheel_4_Link"/>
    <child link="roller_4_4_Link"/>
    <axis xyz="0 0 0"/>
  </joint>
  <link name="roller_4_5_Link">
    <inertial>
      <origin xyz="0 0.000999807094442307 0" rpy="0 0 0"/>
      <mass value="0.00414655559765124"/>
      <inertia ixx="4.31863836293631E-07" ixy="1.09187840857E-22" ixz="-4.80667813518314E-12" iyy="1.5435217827691E-07" iyz="-7.2130149414624E-22" izz="4.31782290634998E-07"/>
    </inertial>
    <visual>
      <origin xyz="0 0 0" rpy="0 0 0"/>
      <geometry>
        <mesh filename="package://oryxbot_description/meshes/base/roller_4_5_Link.STL"/>
      </geometry>
      <material name="">
        <color rgba="0.7 0.7 0.7 1"/>
      </material>
    </visual>
  </link>
  <joint name="roller_4_5_Joint" type="fixed">
    <origin xyz="-0.0217132034356014 -0.000707106781189015 -0.0207132034355986" rpy="-0.52990278974873 -0.146975190663391 -0.529902789748729"/>
    <parent link="wheel_4_Link"/>
    <child link="roller_4_5_Link"/>
    <axis xyz="0 0 0"/>
  </joint>
  <link name="roller_4_6_Link">
    <inertial>
      <origin xyz="-2.77555756156289E-17 0.000999807094442334 0" rpy="0 0 0"/>
      <mass value="0.00414655559765127"/>
      <inertia ixx="4.31863836293637E-07" ixy="-4.89690922631392E-22" ixz="-4.80667813524086E-12" iyy="1.5435217827691E-07" iyz="-1.79756282968646E-22" izz="4.31782290635004E-07"/>
    </inertial>
    <visual>
      <origin xyz="0 0 0" rpy="0 0 0"/>
      <geometry>
        <mesh filename="package://oryxbot_description/meshes/base/roller_4_6_Link.STL"/>
      </geometry>
      <material name="">
        <color rgba="0.7 0.7 0.7 1"/>
      </material>
    </visual>
  </link>
  <joint name="roller_4_6_Joint" type="fixed">
    <origin xyz="-0.000707106781188779 -0.000707106781188793 -0.03" rpy="0 0 -0.785398163397448"/>
    <parent link="wheel_4_Link"/>
    <child link="roller_4_6_Link"/>
    <axis xyz="0 0 0"/>
  </joint>
  <link name="roller_4_7_Link">
    <inertial>
      <origin xyz="0 0.000999807094442265 -2.77555756156289E-17" rpy="0 0 0"/>
      <mass value="0.00414655559765126"/>
      <inertia ixx="4.31863836293635E-07" ixy="7.94093388050907E-23" ixz="-4.80667813518976E-12" iyy="1.5435217827691E-07" iyz="2.31610571514848E-23" izz="4.31782290635001E-07"/>
    </inertial>
    <visual>
      <origin xyz="0 0 0" rpy="0 0 0"/>
      <geometry>
        <mesh filename="package://oryxbot_description/meshes/base/roller_4_7_Link.STL"/>
      </geometry>
      <material name="">
        <color rgba="0.7 0.7 0.7 1"/>
      </material>
    </visual>
  </link>
  <joint name="roller_4_7_Joint" type="fixed">
    <origin xyz="0.0207132034355986 -0.000707106781189015 -0.0217132034356014" rpy="0.52990278974873 0.146975190663391 -0.529902789748729"/>
    <parent link="wheel_4_Link"/>
    <child link="roller_4_7_Link"/>
    <axis xyz="0 0 0"/>
  </joint>
  <link name="roller_4_8_Link">
    <inertial>
      <origin xyz="0 0.000999807094442265 1.38777878078145E-17" rpy="0 0 0"/>
      <mass value="0.00414655559765128"/>
      <inertia ixx="4.31863836293638E-07" ixy="-9.13897251964715E-24" ixz="-4.80667813522517E-12" iyy="1.54352178276911E-07" iyz="4.2351647362715E-22" izz="4.31782290635004E-07"/>
    </inertial>
    <visual>
      <origin xyz="0 0 0" rpy="0 0 0"/>
      <geometry>
        <mesh filename="package://oryxbot_description/meshes/base/roller_4_8_Link.STL"/>
      </geometry>
      <material name="">
        <color rgba="0.7 0.7 0.7 1"/>
      </material>
    </visual>
  </link>
  <joint name="roller_4_8_Joint" type="fixed">
    <origin xyz="0.03 -0.000707106781188821 -0.000707106781188849" rpy="0.785398163397448 0 0"/>
    <parent link="wheel_4_Link"/>
    <child link="roller_4_8_Link"/>
    <axis xyz="0 0 0"/>
  </joint>
  <gazebo reference="base_link">
    <material>Gazebo/Black</material>
  </gazebo>
  <gazebo reference="save_box_Link">
    <material>Gazebo/White</material>
  </gazebo>
  <gazebo reference="depth_camera_Link">
    <material>Gazebo/Yellow</material>
  </gazebo>
  <gazebo reference="laser_radar_Link">
    <material>Gazebo/Red</material>
  </gazebo>
  <gazebo reference="screen_Link">
    <material>Gazebo/Blue</material>
  </gazebo>
  <gazebo reference="control_box_Link">
    <material>Gazebo/Black</material>
  </gazebo>
  <gazebo reference="laser_radar_Link">
    <sensor type="ray" name="rplidar_sensor">
      <pose>0 0 0 0 0 0</pose>
      <visualize>true</visualize>
      <update_rate>10</update_rate>
      <ray>
        <scan>
          <horizontal>
            <samples>1400</samples>
            <resolution>1</resolution>
            <!--min_angle>-1.570796</min_angle>
            <max_angle>1.570796</max_angle-->
            <min_angle>-1</min_angle>
            <max_angle>1</max_angle>
          </horizontal>
        </scan>
        <range>
          <min>0.10</min>
          <max>8.0</max>
          <resolution>0.01</resolution>
        </range>
        <noise>
          <type>gaussian</type>
          <!-- Noise parameters based on published spec for Hokuyo laser
               achieving "+-30mm" accuracy at range < 10m.  A mean of 0.0m and
               stddev of 0.01m will put 99.7% of samples within 0.03m of the true
               reading. -->
          <mean>0.0</mean>
          <stddev>0.01</stddev>
        </noise>
      </ray>
      <plugin name="gazebo_ros_head_hokuyo_controller" filename="libgazebo_ros_laser.so">
        <topicName>/scan</topicName>
        <frameName>laser_radar_Link</frameName>
      </plugin>
    </sensor>
  </gazebo>
  <gazebo reference="depth_camera_Link">
    <sensor type="depth" name="kinect_camera">
      <always_on>true</always_on>
      <update_rate>20.0</update_rate>
      <camera>
        <horizontal_fov>1.0472</horizontal_fov>
        <image>
          <format>R8G8B8</format>
          <width>640</width>
          <height>480</height>
        </image>
        <clip>
          <near>0.5</near>
          <far>8.0</far>
        </clip>
      </camera>
      <plugin name="kinect_camera_controller" filename="libgazebo_ros_openni_kinect.so">
        <cameraName>kinect_camera</cameraName>
        <alwaysOn>true</alwaysOn>
        <updateRate>10</updateRate>
        <imageTopicName>rgb/image_raw</imageTopicName>
        <depthImageTopicName>depth/image_raw</depthImageTopicName>
        <pointCloudTopicName>depth/points</pointCloudTopicName>
        <cameraInfoTopicName>rgb/camera_info</cameraInfoTopicName>
        <depthImageCameraInfoTopicName>depth/camera_info</depthImageCameraInfoTopicName>
        <frameName>kinect_frame_optical</frameName>
        <baseline>0.1</baseline>
        <distortion_k1>0.0</distortion_k1>
        <distortion_k2>0.0</distortion_k2>
        <distortion_k3>0.0</distortion_k3>
        <distortion_t1>0.0</distortion_t1>
        <distortion_t2>0.0</distortion_t2>
        <pointCloudCutoff>0.4</pointCloudCutoff>
      </plugin>
    </sensor>
  </gazebo>
  <gazebo>
    <plugin name="gazebo_ros_control" filename="libgazebo_ros_control.so">
      <robotNamespace>/oryxbot</robotNamespace>
    </plugin>
  </gazebo>
  <gazebo>
    <plugin name="base_controller" filename="libgazebo_ros_planar_move.so">
      <commandTopic>cmd_vel</commandTopic>
      <odometryTopic>odom</odometryTopic>
      <odometryFrame>odom</odometryFrame>
      <odometryRate>20.0</odometryRate>
      <robotBaseFrame>base_footprint</robotBaseFrame>
    </plugin>
  </gazebo>
</robot>
